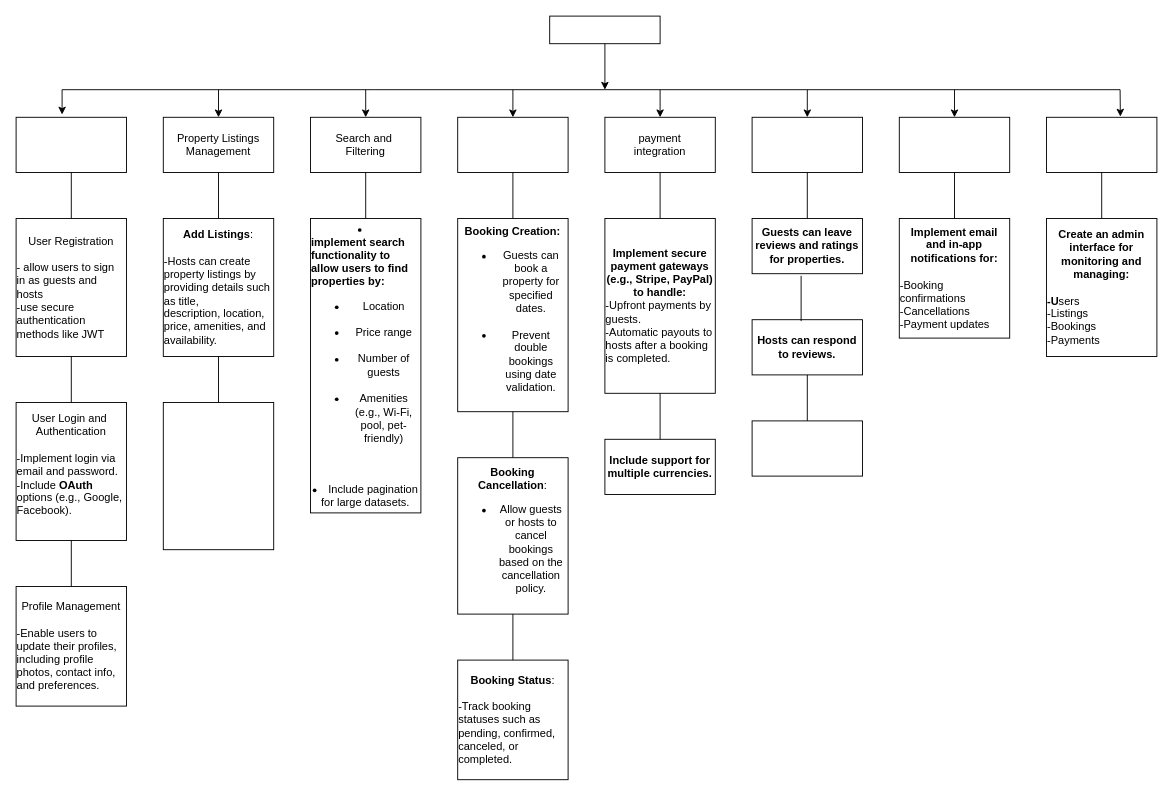
The diagram is 1173 pixels wide and 796 high, and some of its shapes have lost their labels. Each missing label, with the centre of its shape:
Admin Dashboard: point (1101, 144)
Airbnb clone Backend: point (604, 29)
Booking Management: point (512, 144)
Edit/Delete Listings : -Hosts can update or remove their property listings.: point (218, 476)
Ensure reviews are linked to specific bookings to prevent abuse.: point (806, 448)
Notification System: point (954, 144)
Reviews and Ratings: point (806, 144)
User Management: point (70, 144)
